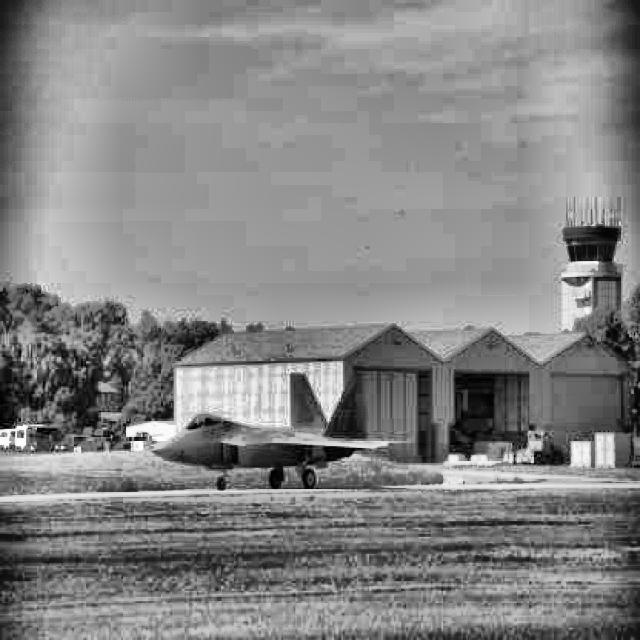F22: (152, 371, 413, 489)
